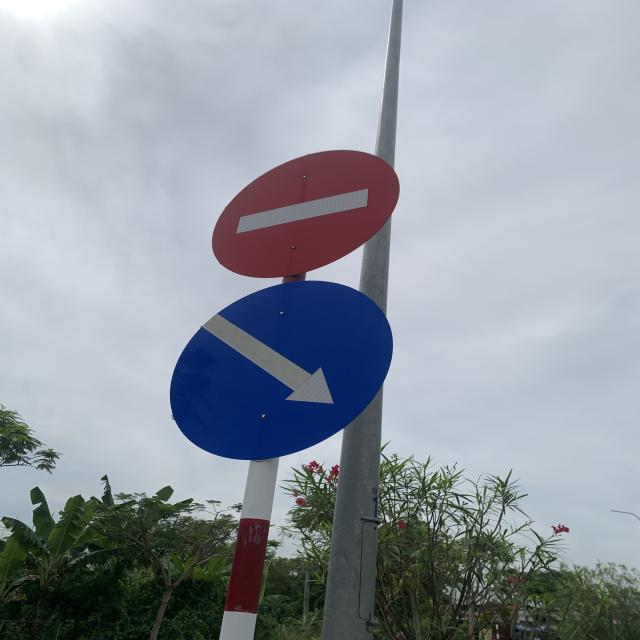Cam_Di_Nguoc_Chieu: (212, 150, 400, 281)
Chi_Huong_Di_Phai: (168, 282, 394, 464)
